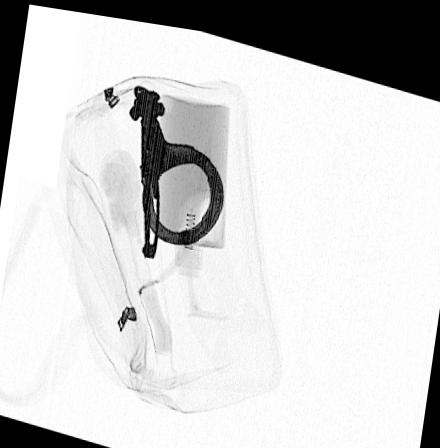HandCuffs: (125, 75, 226, 258)
